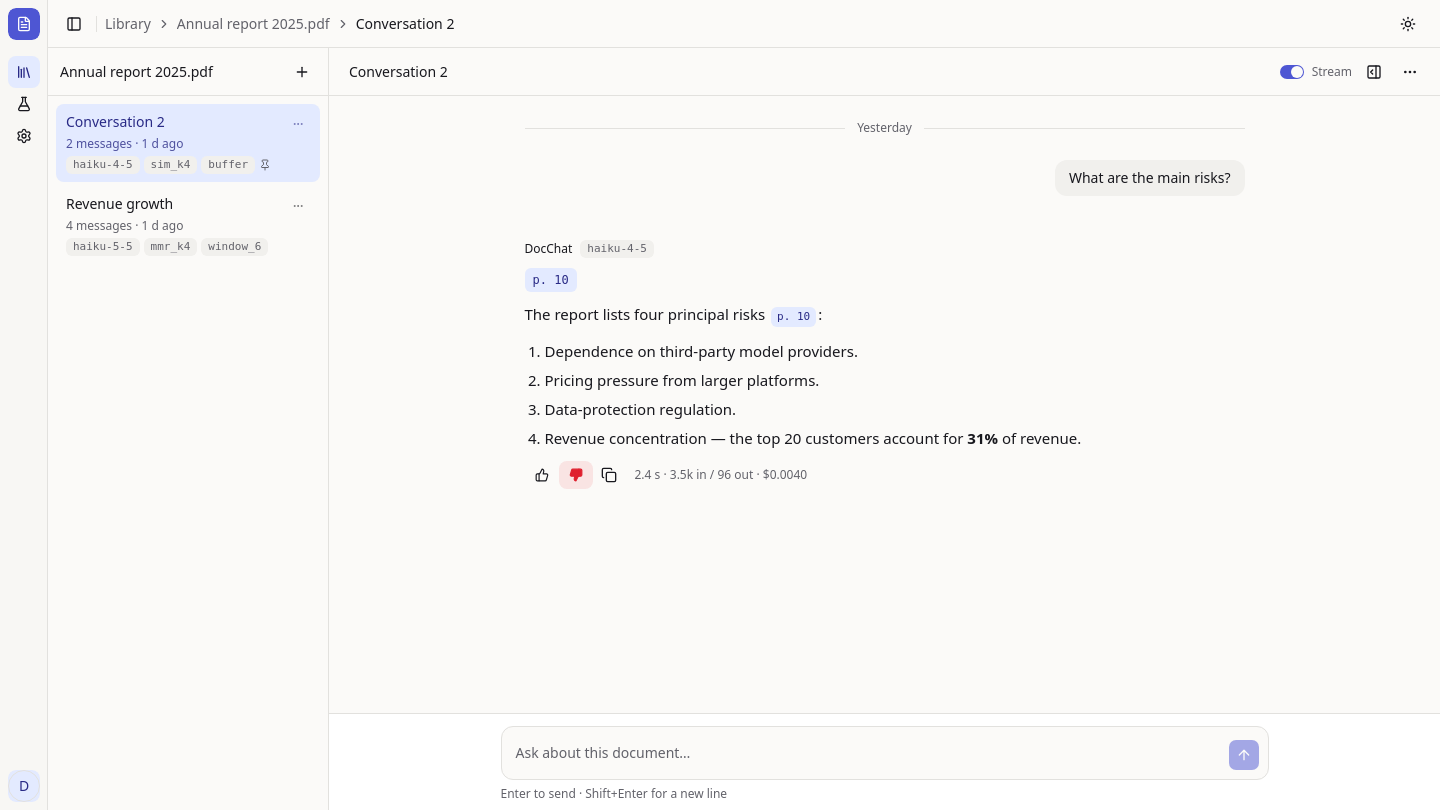
Test: workspace › deletes a conversation after confirmation
This screenshot has width=1440, height=810.
Click the button named "Actions for Revenue growth".
click(298, 206)  # box [286,194,310,218]
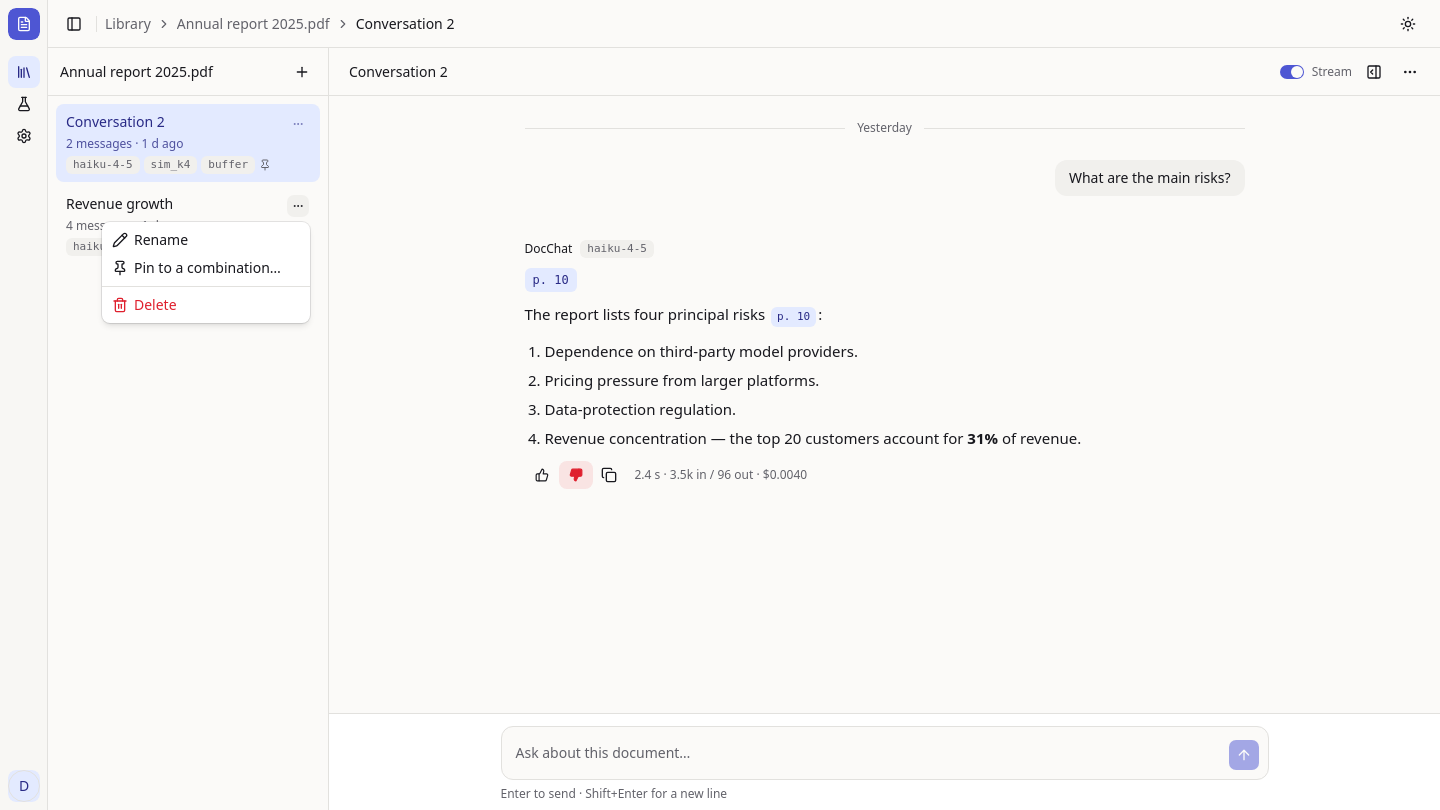
Click the menu item "Delete".
click(144, 304)  # box [112,295,177,314]
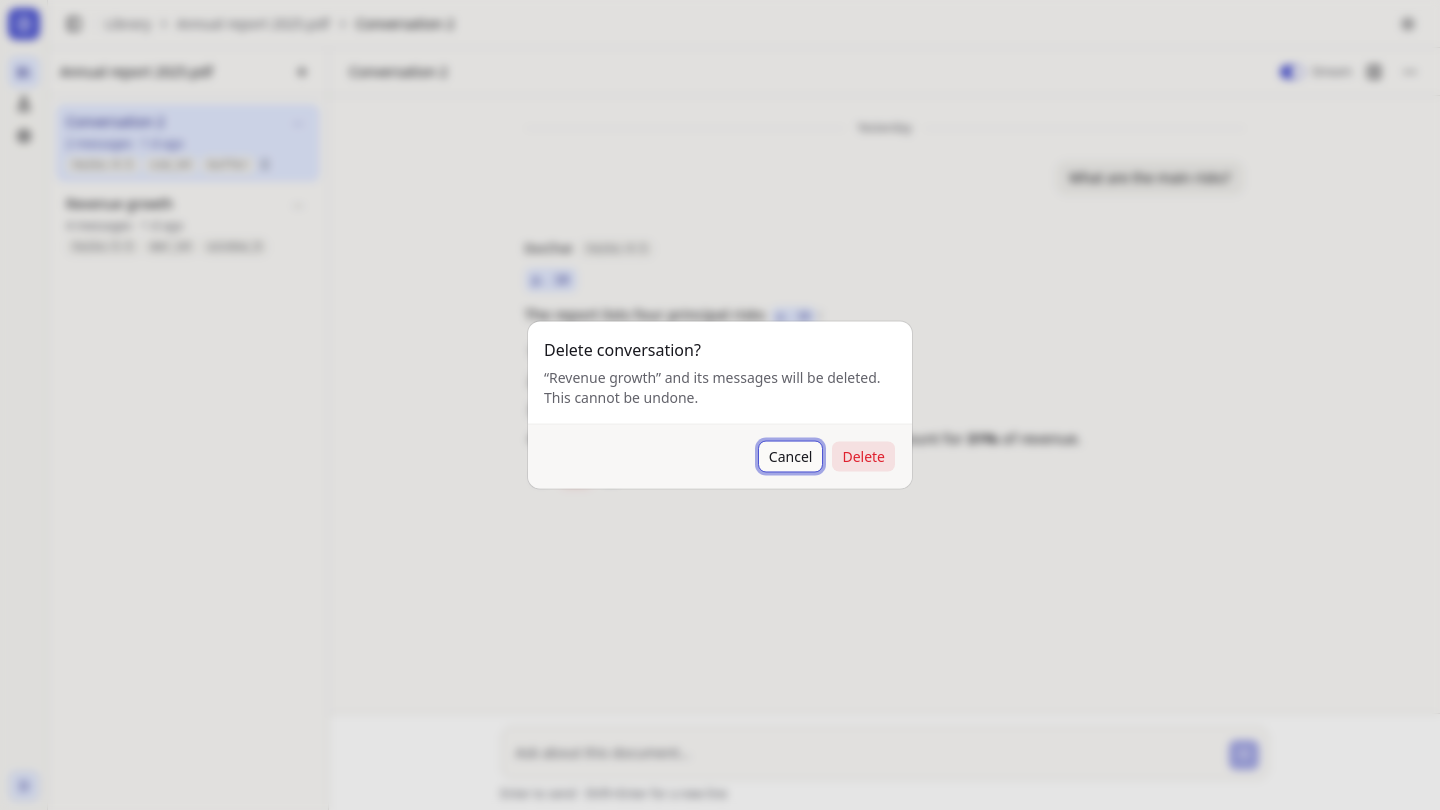
Click the button "Delete".
click(864, 456)  # box [831,440,896,472]
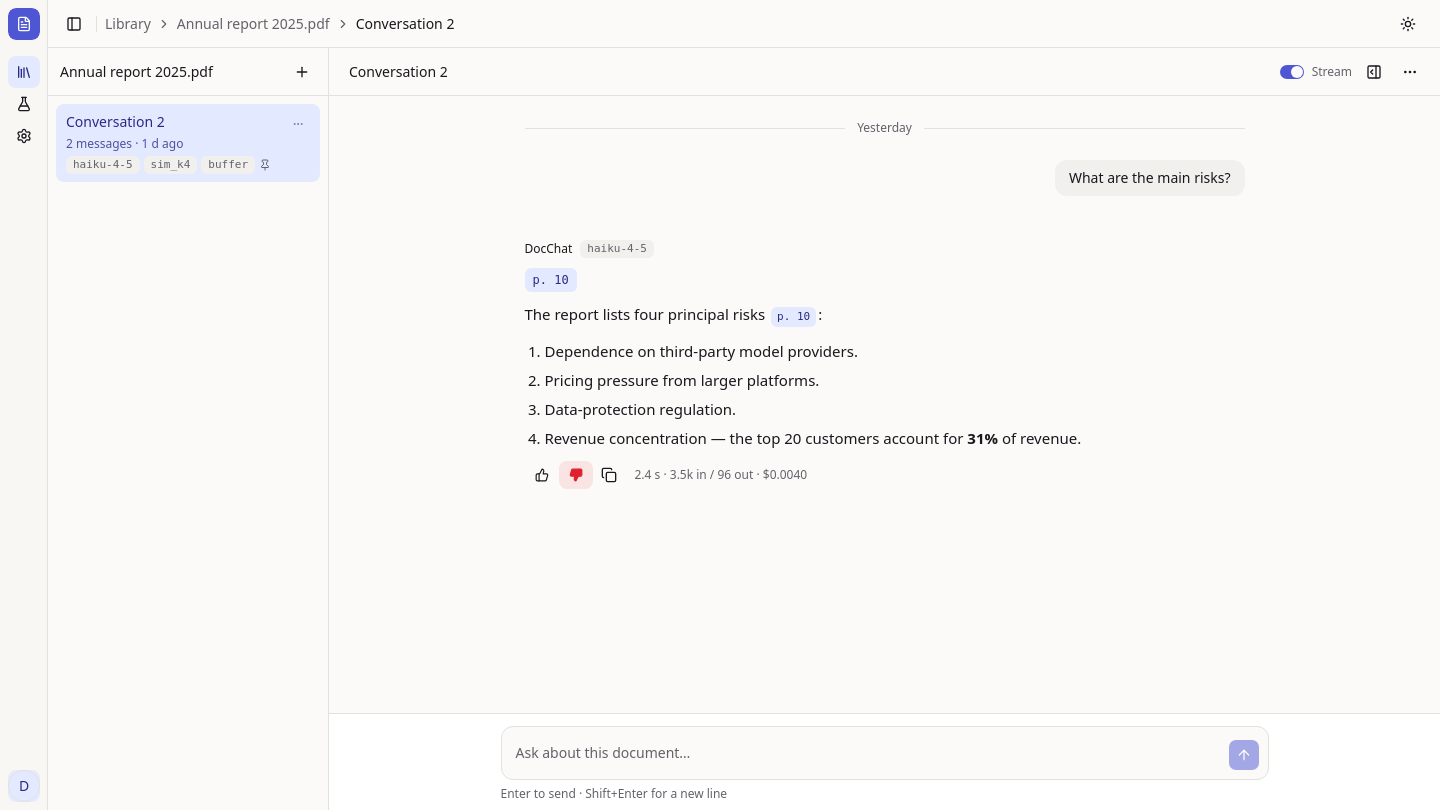
Expected: the button "Revenue growth" is gone
